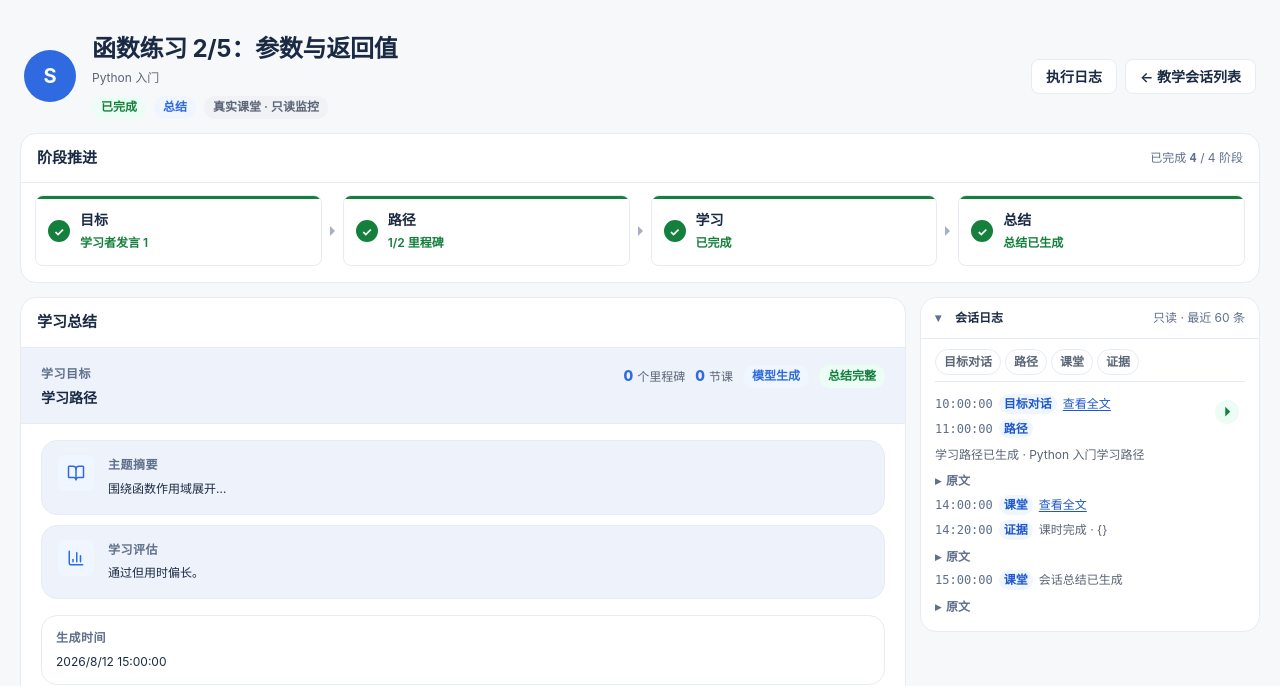
Test: SessionCockpit 双模式 › 检查点题目可查（2026-10-13 走查「教学会话看不到检查点题目」：检查点走结构化通道不进聊天逐字稿）
// 切到存课堂转录的 Learn 页签（默认落 wrapup）
Click the tab with class "cp-stp" showing "✓ 学习 已完成" at (714, 243), box [650, 195, 937, 266]
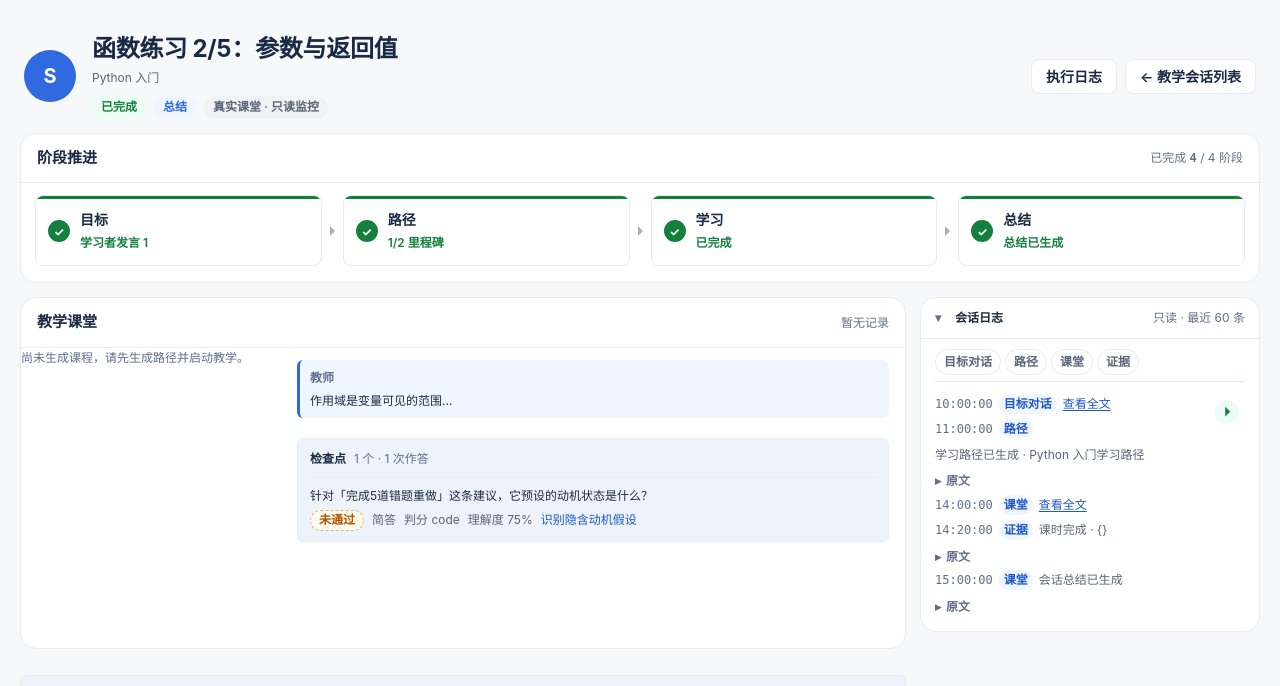
Now the element with class "cp-checkpoints" is shown, box [297, 438, 889, 542]
Now the element with class "cp-checkpoints" shows "检查点", box [310, 451, 346, 466]
Now the element with class "cp-checkpoints" shows "针对「完成5道错题重做」这条建议，它预设的动机状态是什么？", box [310, 488, 653, 503]
